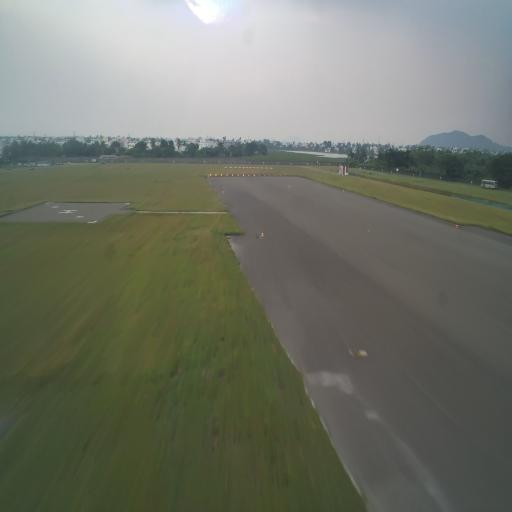off: (357, 343, 369, 363)
on: (260, 231, 264, 238), (242, 173, 245, 178), (342, 188, 344, 194), (253, 173, 255, 178), (222, 190, 224, 194), (207, 174, 209, 178), (226, 173, 228, 177), (248, 173, 250, 177), (456, 224, 458, 228), (210, 173, 212, 176), (269, 174, 271, 177), (274, 174, 276, 177), (215, 174, 217, 176), (221, 173, 222, 177), (232, 174, 234, 176), (237, 174, 239, 176), (279, 175, 281, 177), (259, 174, 260, 177), (264, 174, 265, 177)
